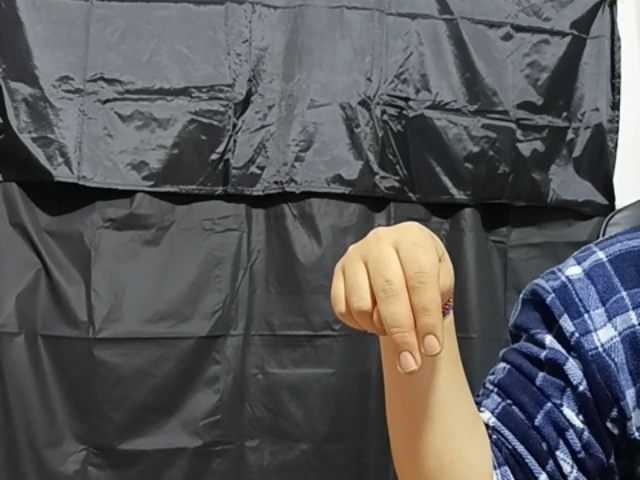N: (327, 216, 467, 378)
